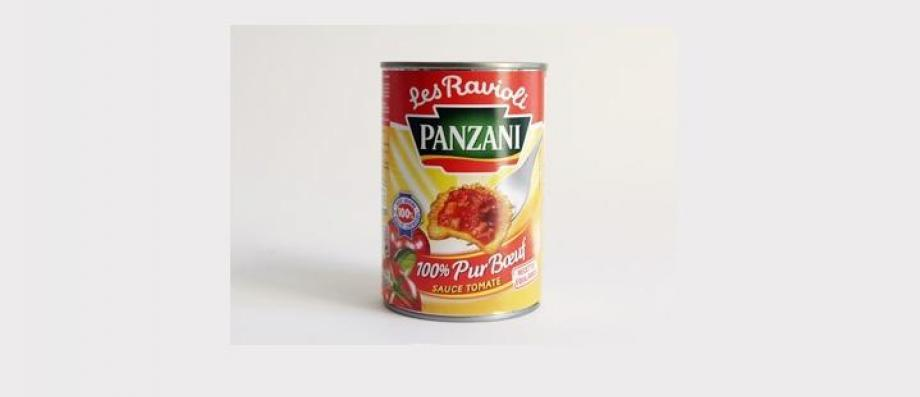metal: (383, 61, 547, 322)
